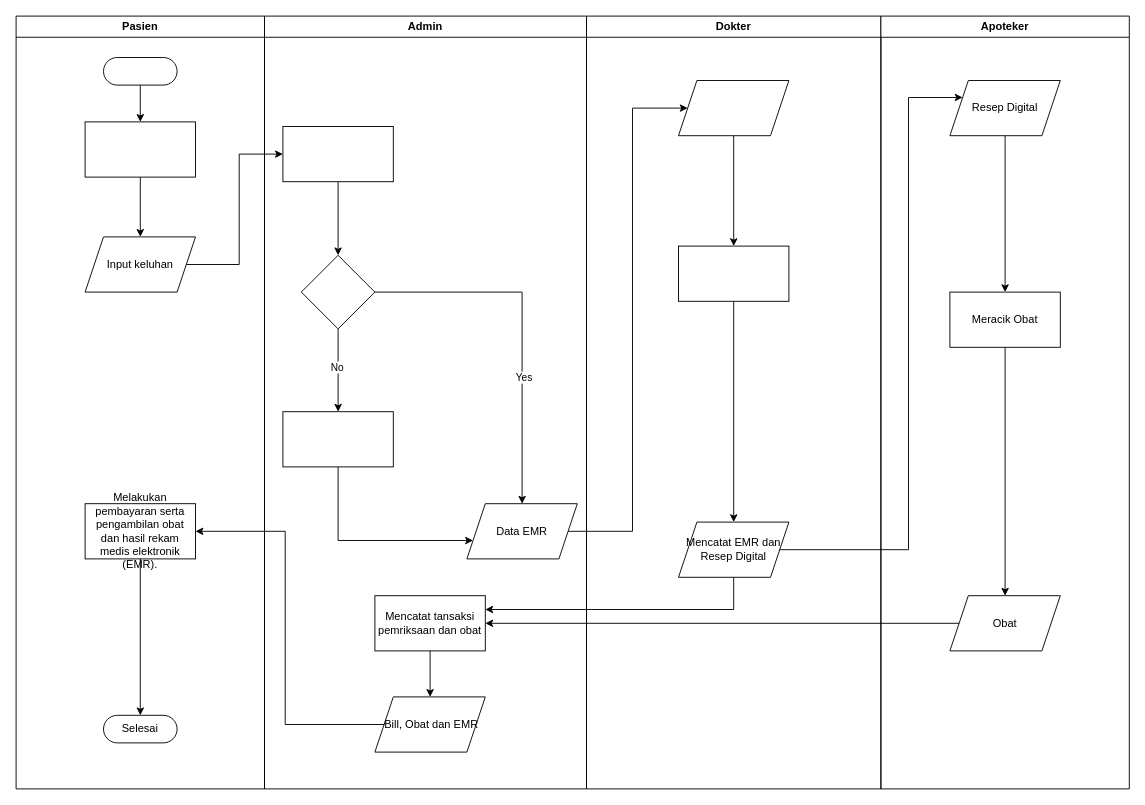
This 1145x805 diagram has some shape labels left out. The shapes that lost their labels are listed below. From the top down, each one's centre as x and y in pixels, then its label:
pixel 140 71: Mulai
pixel 733 108: Data EMR Pasien
pixel 140 149: Mendaftar Melalui web
pixel 337 154: Memperivikasi Pasien
pixel 337 291: Sudah Punya akun
pixel 733 273: Memperiksan pasien
pixel 337 439: Tambah data pasien baru
